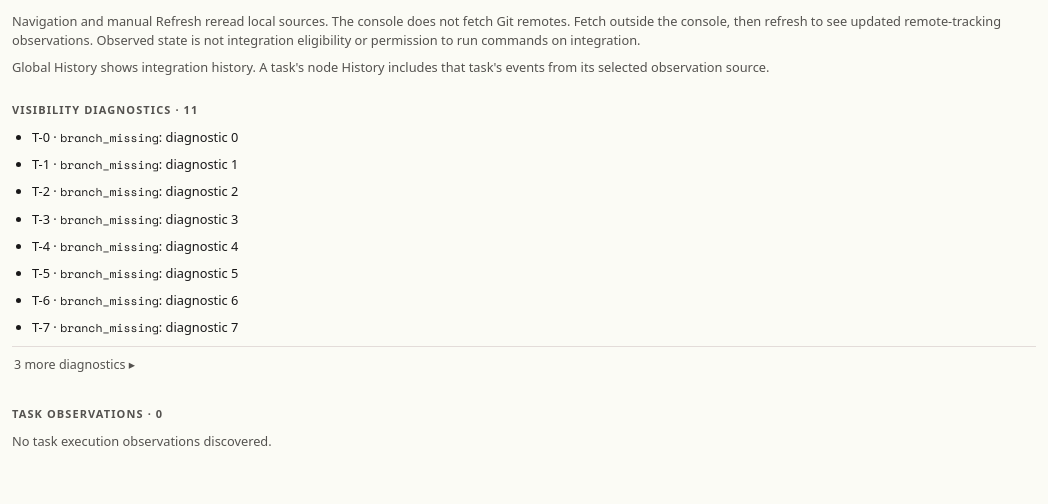
Execution sources › caps visibility diagnostics and reveals the rest on request
Click the button "3 more diagnostics ▸" at coordinates (40, 364), box top-left (12, 346), bottom-right (1036, 382)
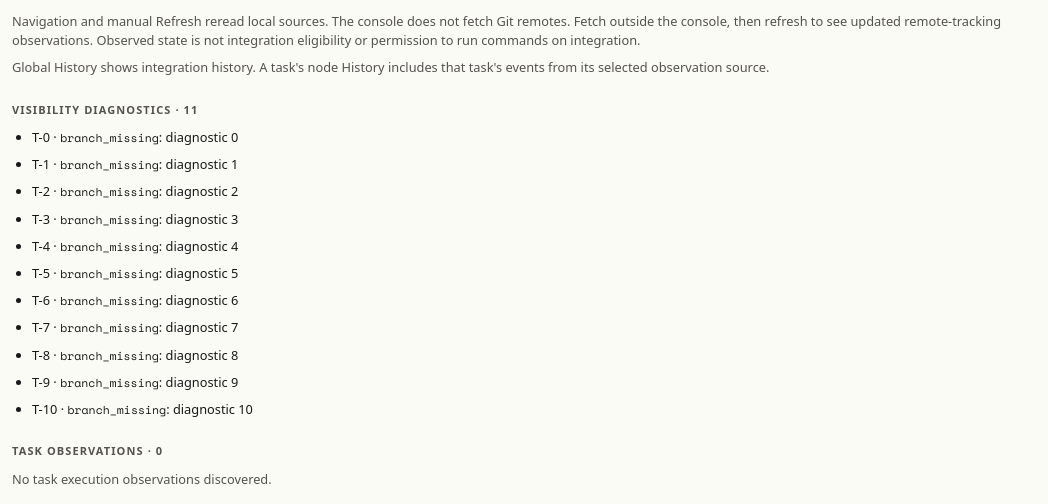
Expected: the text "No task execution observations discovered." is shown, top-left (12, 470), bottom-right (272, 488)
Expected: the number of list items is 11
